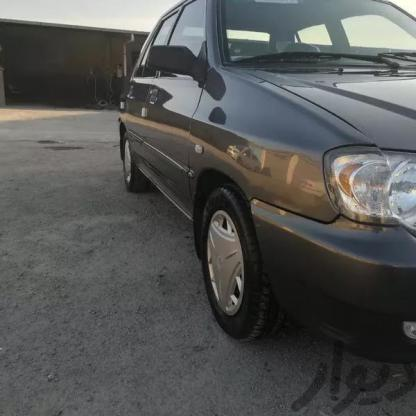Car: (111, 0, 416, 362)
